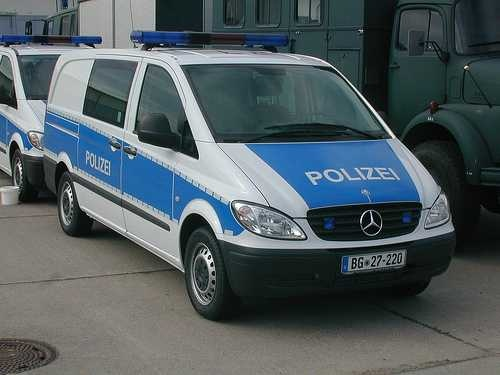Police Car: (42, 22, 457, 334)
